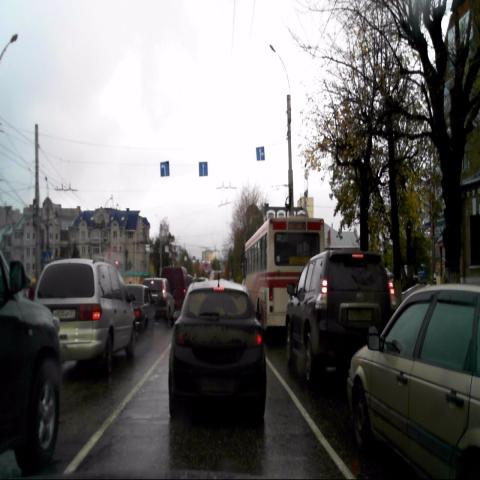5_15_2: (160, 160, 170, 176), (255, 146, 264, 161), (199, 161, 207, 176)
